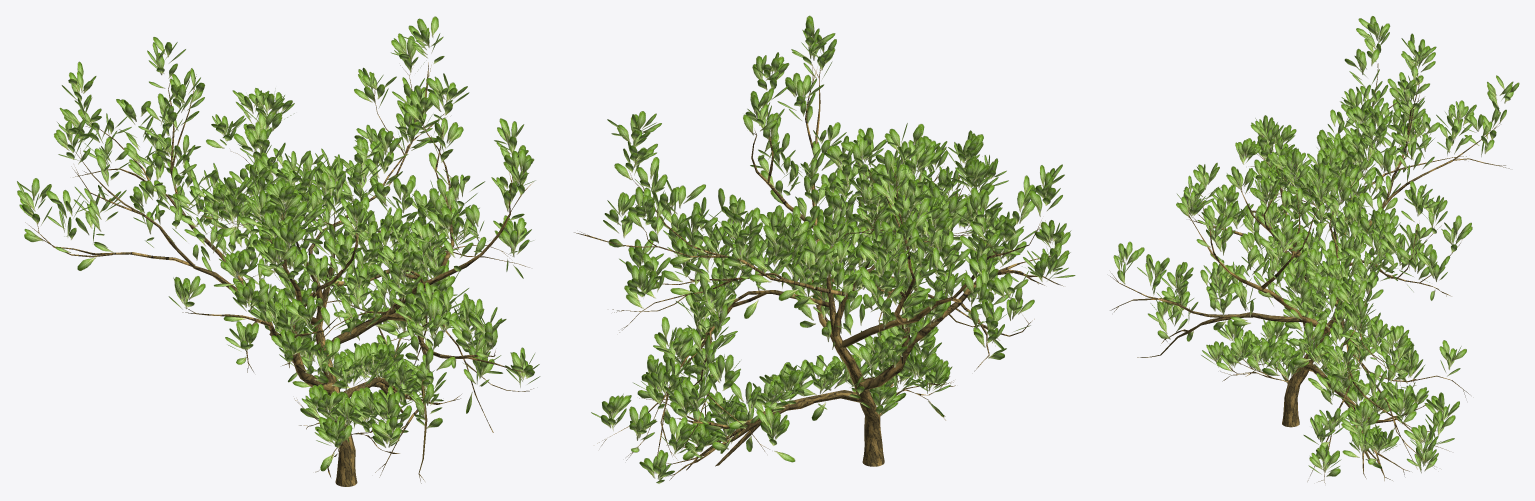
Rendered from bush.glb.
The picture shows the model from 3 angles, left to right: view 1: azimuth 30°, elevation 25°; view 2: azimuth 150°, elevation 25°; view 3: azimuth 270°, elevation 25°; orthographic projection. The views are drawn at different scales.
Parts seen in each view (by area): view 1: Object_2, Object_4; view 2: Object_2, Object_4; view 3: Object_2, Object_4.
Boxes of the visible parts, left/top/right/bottom form: Object_2: left=17, top=16, right=540, bottom=471; Object_4: left=25, top=62, right=533, bottom=486; Object_2: left=591, top=15, right=1075, bottom=483; Object_4: left=574, top=64, right=1063, bottom=480; Object_2: left=1113, top=16, right=1519, bottom=476; Object_4: left=1110, top=63, right=1509, bottom=483.
Size of the model in its own units: 152 by 131 by 143.
2 materials, 2 textured.
